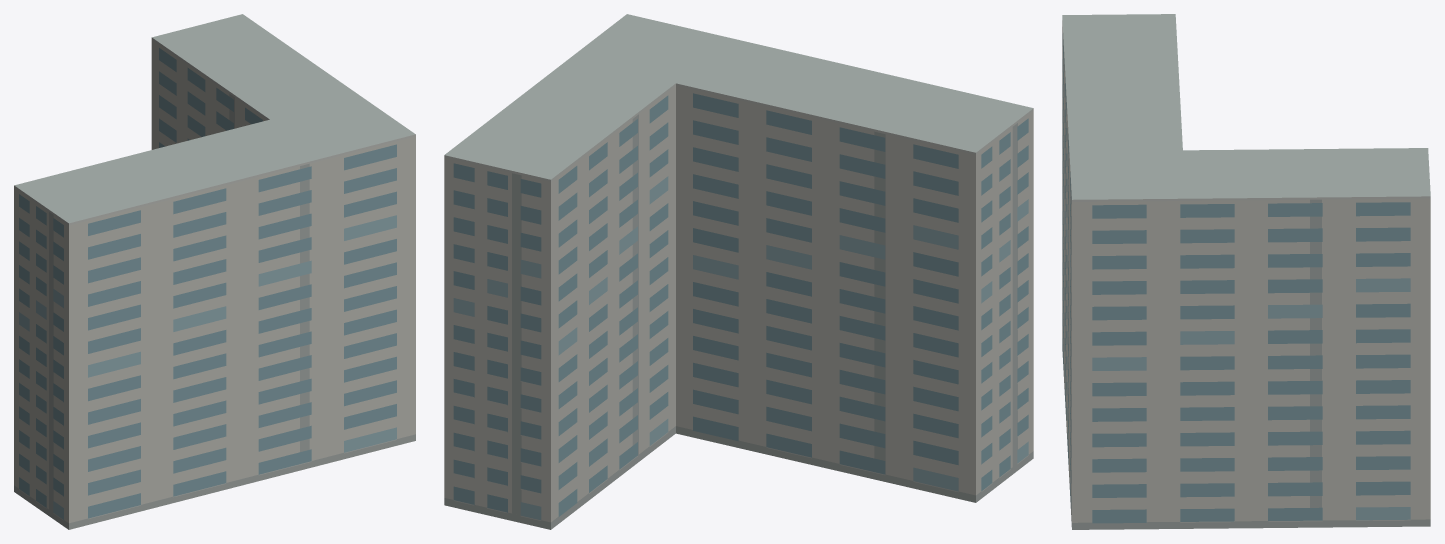
The model's file is residential-61e3626e-d874-4cba-8108-e9df97e5a520.glb.
3 views of the same model, side by side, from view 1: azimuth 30°, elevation 25°; view 2: azimuth 150°, elevation 25°; view 3: azimuth 270°, elevation 25° (orthographic). The views are drawn at different scales.
Parts seen in each view (by area): view 1: residential-61e3626e-d874-4cba-8108-e9df97e5a520.tmp; view 2: residential-61e3626e-d874-4cba-8108-e9df97e5a520.tmp; view 3: residential-61e3626e-d874-4cba-8108-e9df97e5a520.tmp.
Boxes of the visible parts, left/top/right/bottom form: residential-61e3626e-d874-4cba-8108-e9df97e5a520.tmp: left=14, top=14, right=415, bottom=529; residential-61e3626e-d874-4cba-8108-e9df97e5a520.tmp: left=444, top=14, right=1033, bottom=529; residential-61e3626e-d874-4cba-8108-e9df97e5a520.tmp: left=1062, top=14, right=1430, bottom=529.
Bounding box in the file's own units: 43.47 × 36 × 36.44.
